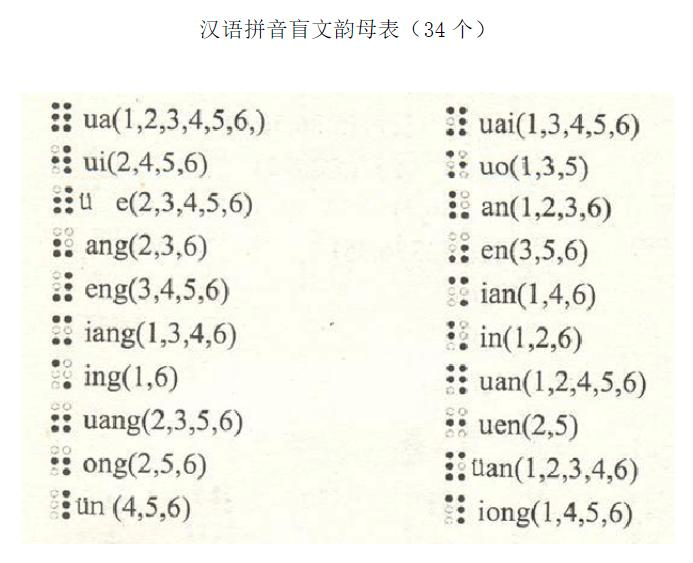Braille: (445, 106, 469, 138), (445, 149, 469, 180), (445, 364, 469, 395), (49, 489, 72, 520), (445, 407, 468, 438), (447, 320, 469, 352), (52, 270, 73, 303), (445, 493, 466, 526), (52, 227, 74, 258), (448, 276, 470, 307), (51, 445, 72, 477), (448, 232, 469, 264), (448, 190, 470, 220), (51, 101, 72, 132), (445, 451, 466, 482), (52, 402, 72, 434), (52, 185, 74, 214), (52, 315, 73, 345), (51, 359, 72, 389), (52, 145, 72, 175)
